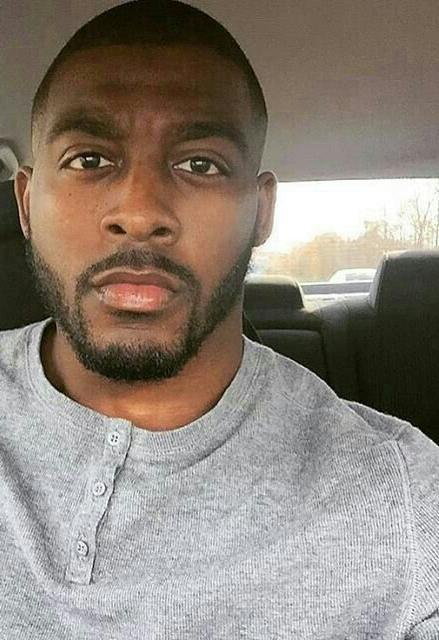Sober: (35, 37, 234, 353)
